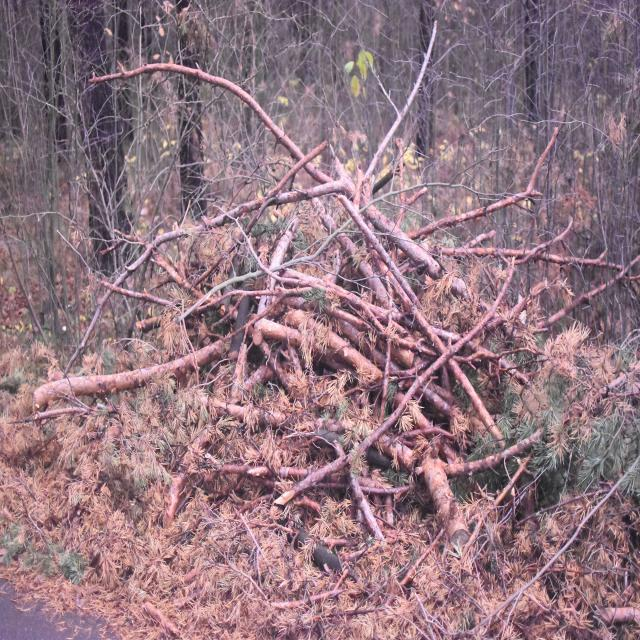restos de madeira: (464, 438, 640, 640), (246, 275, 481, 426), (276, 335, 473, 513), (273, 348, 466, 513), (51, 226, 232, 374), (157, 174, 367, 249), (336, 175, 462, 282), (452, 218, 640, 288), (354, 15, 427, 192), (458, 291, 554, 423), (202, 68, 318, 177), (312, 192, 405, 320), (241, 267, 395, 338), (458, 444, 538, 560), (426, 7, 496, 117), (211, 519, 287, 615), (278, 511, 366, 590), (426, 537, 491, 632), (291, 559, 385, 618), (567, 346, 640, 420), (0, 228, 49, 338), (163, 427, 211, 525), (89, 58, 231, 88), (383, 527, 442, 597), (446, 192, 542, 230), (72, 290, 110, 355), (54, 228, 97, 277), (28, 402, 110, 427), (266, 215, 299, 277), (438, 230, 501, 260), (193, 206, 251, 233), (20, 504, 50, 550), (143, 601, 181, 636), (202, 458, 262, 480), (124, 242, 156, 274), (148, 227, 193, 247)
